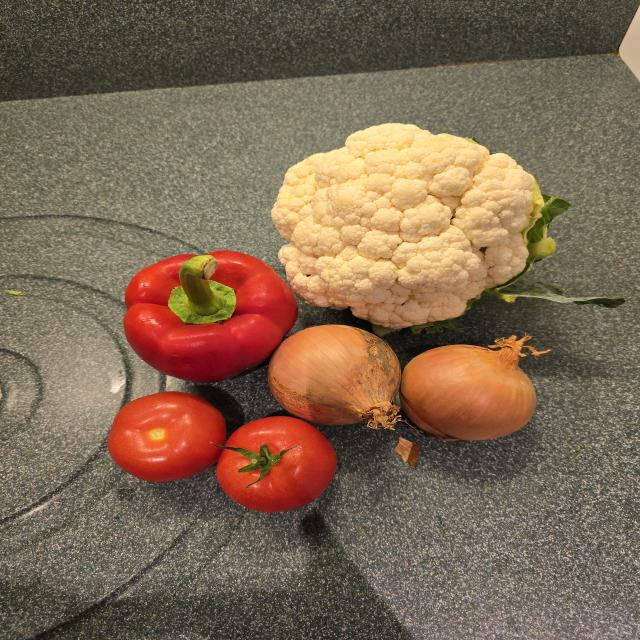Bell Pepper: (124, 251, 297, 382)
Cauliflower: (272, 124, 569, 329)
Onion: (400, 335, 536, 441), (268, 325, 401, 429)
Tomato: (216, 416, 337, 512), (107, 392, 226, 481)
